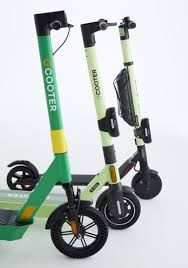kick_body: (5, 191, 60, 214), (42, 175, 92, 183)
kick_handler: (33, 9, 73, 35), (79, 18, 115, 45), (118, 16, 136, 39)
kick_neck: (37, 41, 68, 184), (83, 50, 117, 178), (117, 43, 154, 146)
kick_wheel: (48, 206, 106, 259), (99, 189, 140, 227), (132, 171, 161, 199), (5, 165, 35, 190)
